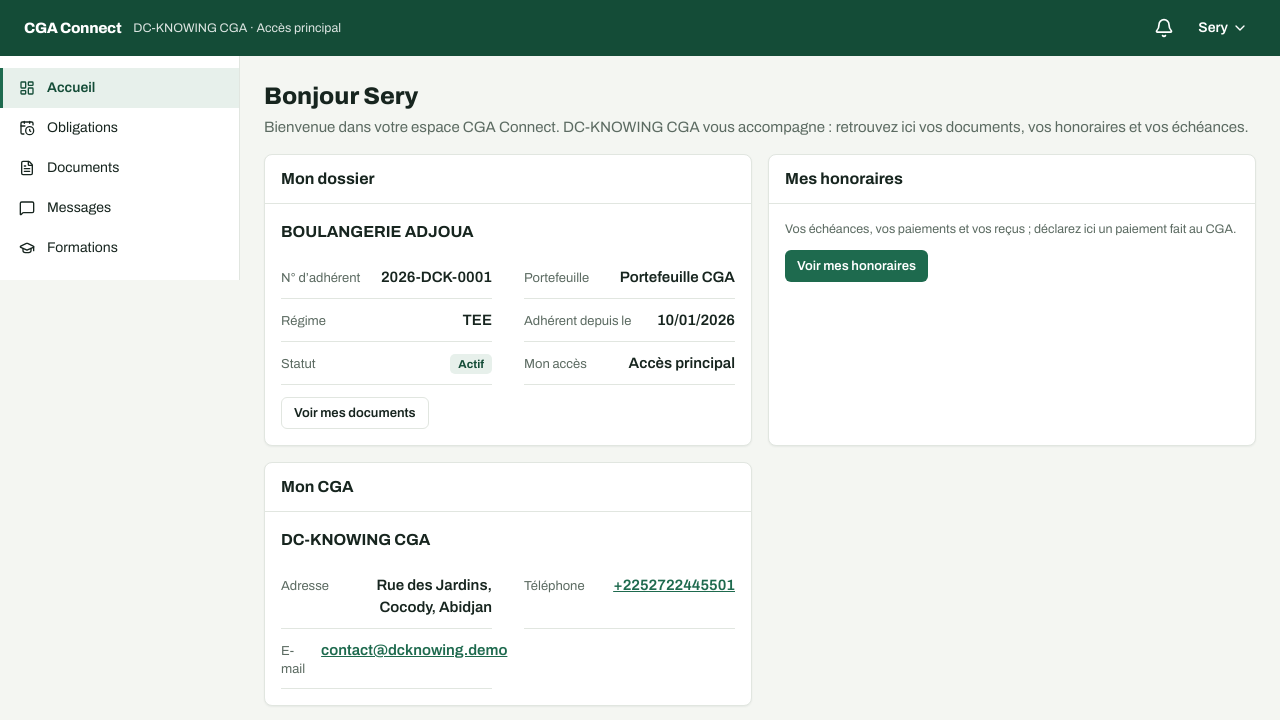
it: /adherent/honoraires (3.10, F-PAY-03) › depuis l’accueil : la carte « Mes honoraires », puis échéances, reste à payer et paiements
The width and height of the screenshot is (1280, 720).
Click the link "Voir mes honoraires": (856, 266) [785,250,928,282]
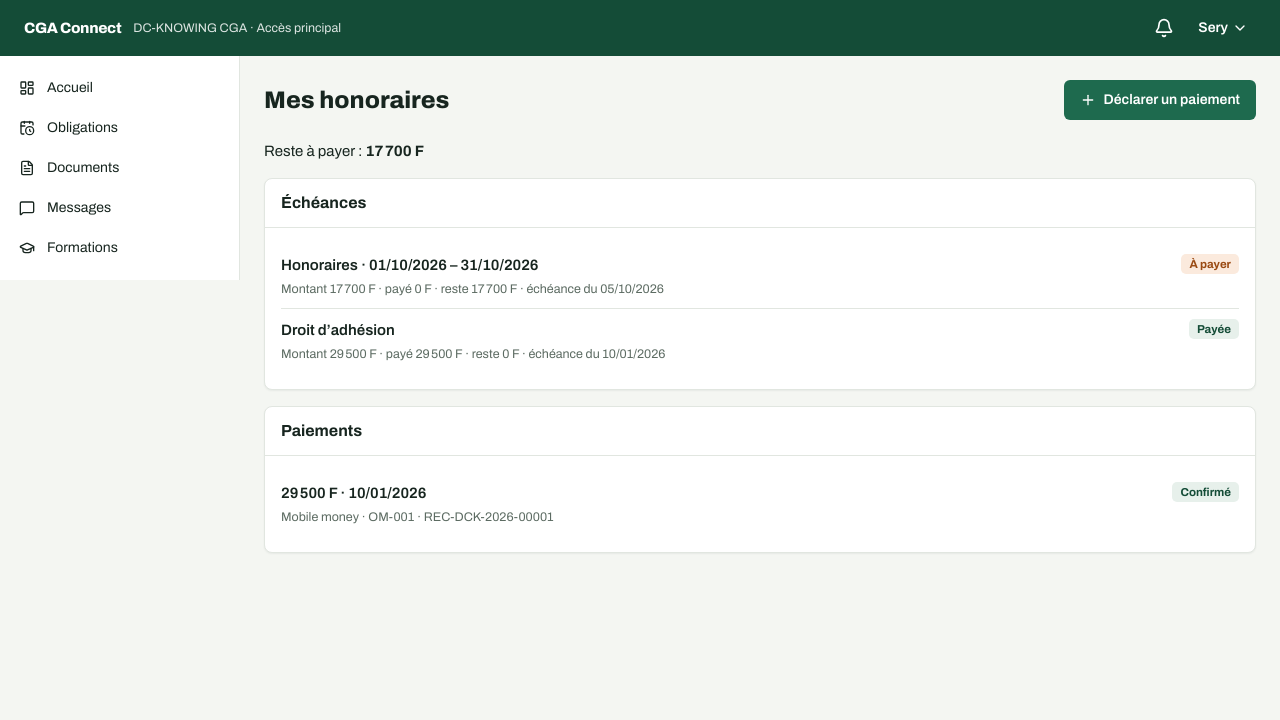
Expected: the heading "Mes honoraires" is shown, [264,84,449,116]
Expected: the text "Honoraires · 01/10/2026 – 31/10/2026" is shown, [281,254,538,276]
Expected: the text "Payée" is shown, [1189,319,1239,339]
